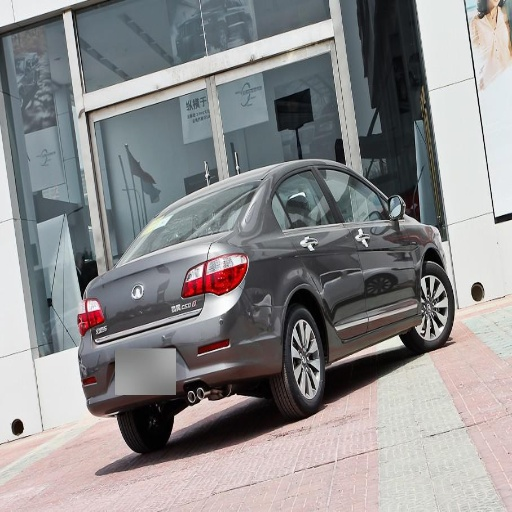back_bumper: (78, 288, 278, 411)
back_right_door: (272, 164, 368, 338)
tailgate: (87, 234, 212, 323)
trunk: (90, 281, 201, 340)
